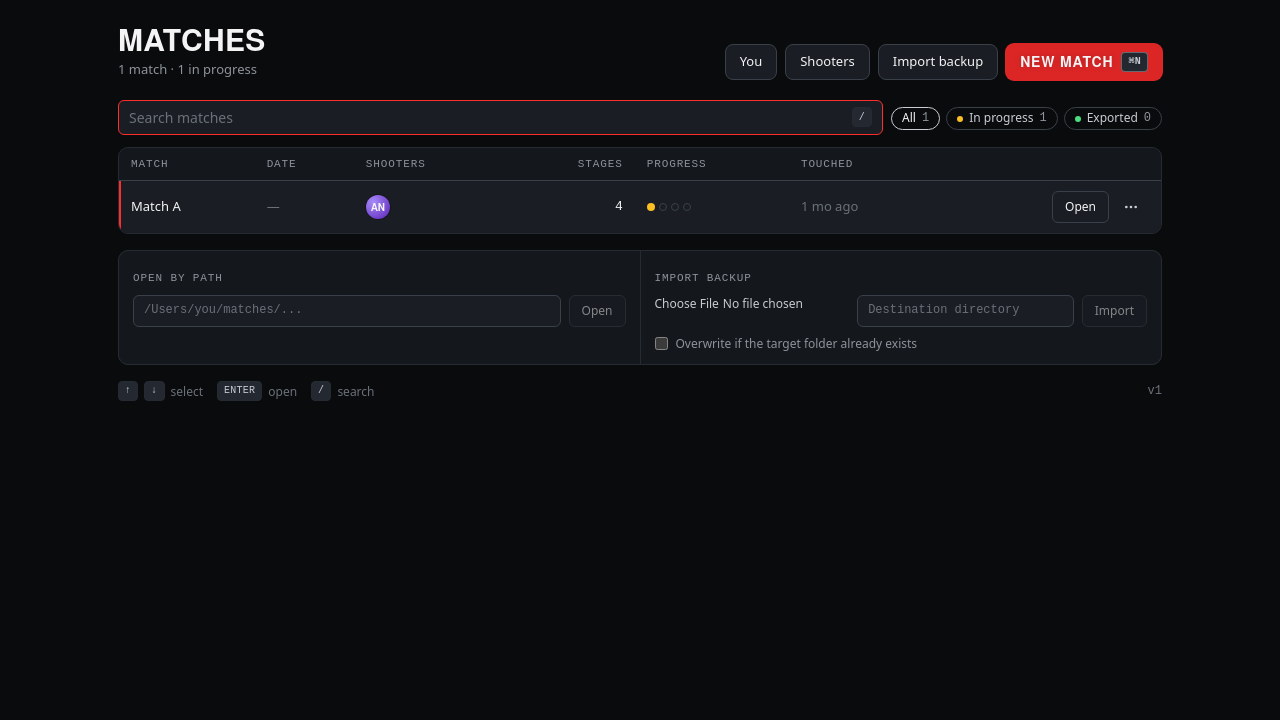
Test: Matches row delete › desktop: a synced match says the hosted copy is kept
Click the button named "Match A actions" at x=1131, y=207, box [1113,189,1149,225]
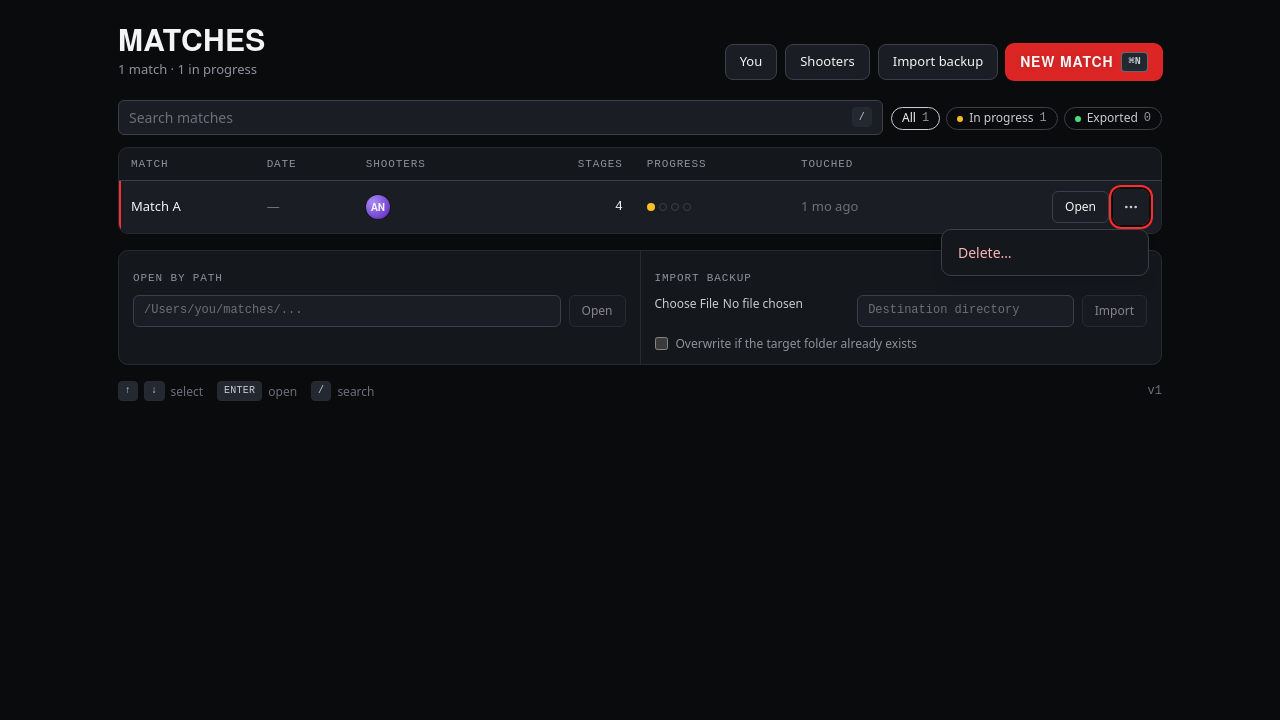
Click the menu item "Delete…" at x=1045, y=252, box [948,236,1142,269]
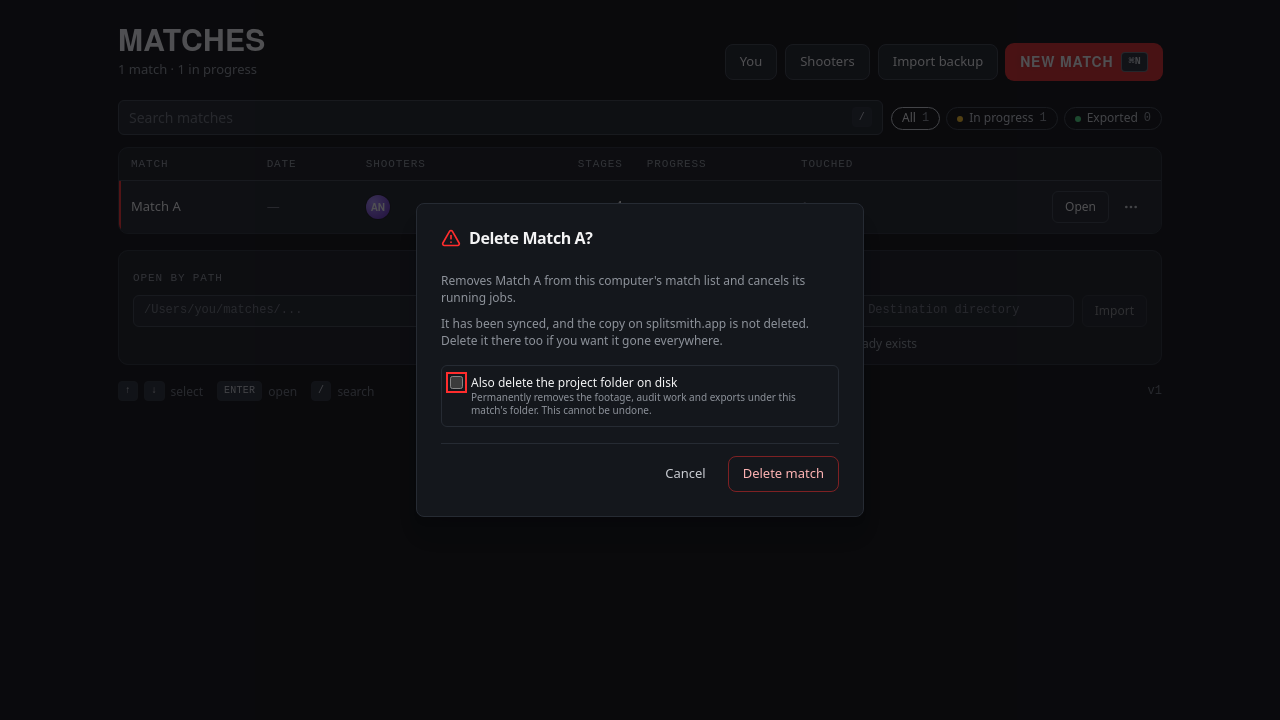
expect the text "copy on splitsmith.app is not deleted" is shown: met, box [441,315,809,349]
expect the checkbox labelled "project folder on disk" is not checked: met, box [450,376,463,389]
